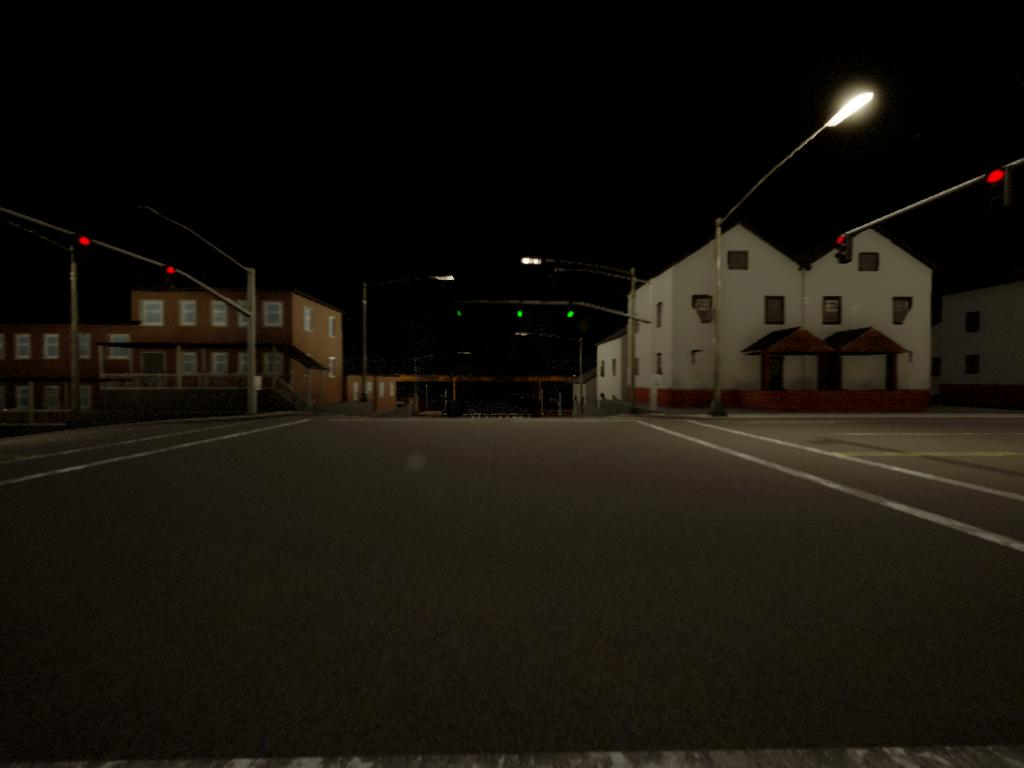traffic_light: (986, 169, 1011, 211), (835, 237, 853, 264), (79, 235, 94, 263), (163, 268, 178, 292), (564, 309, 579, 323), (455, 304, 465, 322), (514, 310, 525, 324)
